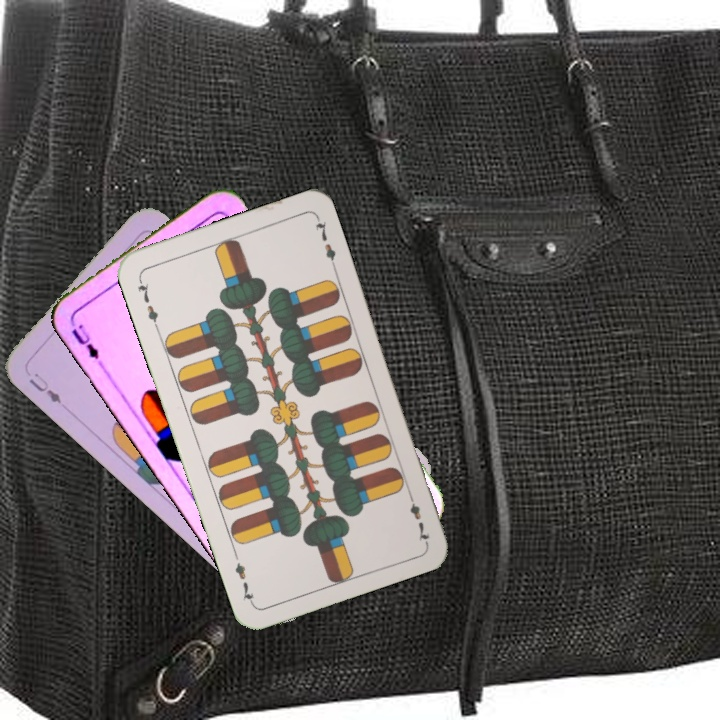E7: (403, 488, 432, 545), (133, 274, 161, 331)
EU: (66, 316, 106, 369), (24, 368, 64, 406)
